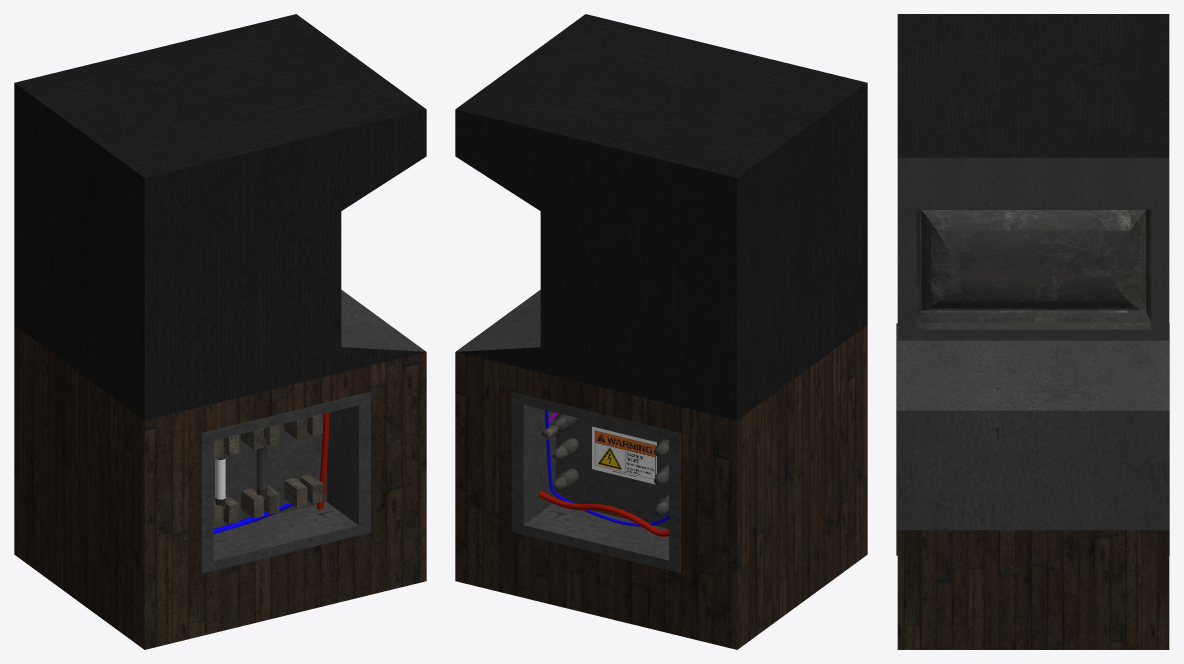
The model's file is arcade parts.fbx.
The picture shows the model from 3 angles, left to right: view 1: azimuth 30°, elevation 25°; view 2: azimuth 150°, elevation 25°; view 3: azimuth 270°, elevation 25°; orthographic projection. The views are drawn at different scales.
Visible parts, largest first — view 1: w, FuseBox; view 2: w, Wiresbox; view 3: w, FuseBox.
Part boxes in pixels (<box>): w: <box>14,14,426,649</box>; FuseBox: <box>201,392,370,573</box>; w: <box>455,14,867,649</box>; Wiresbox: <box>511,392,680,573</box>; w: <box>897,14,1169,649</box>; FuseBox: <box>896,323,897,555</box>.
Bounding box in the file's own units: 100 × 160 × 80.54.
